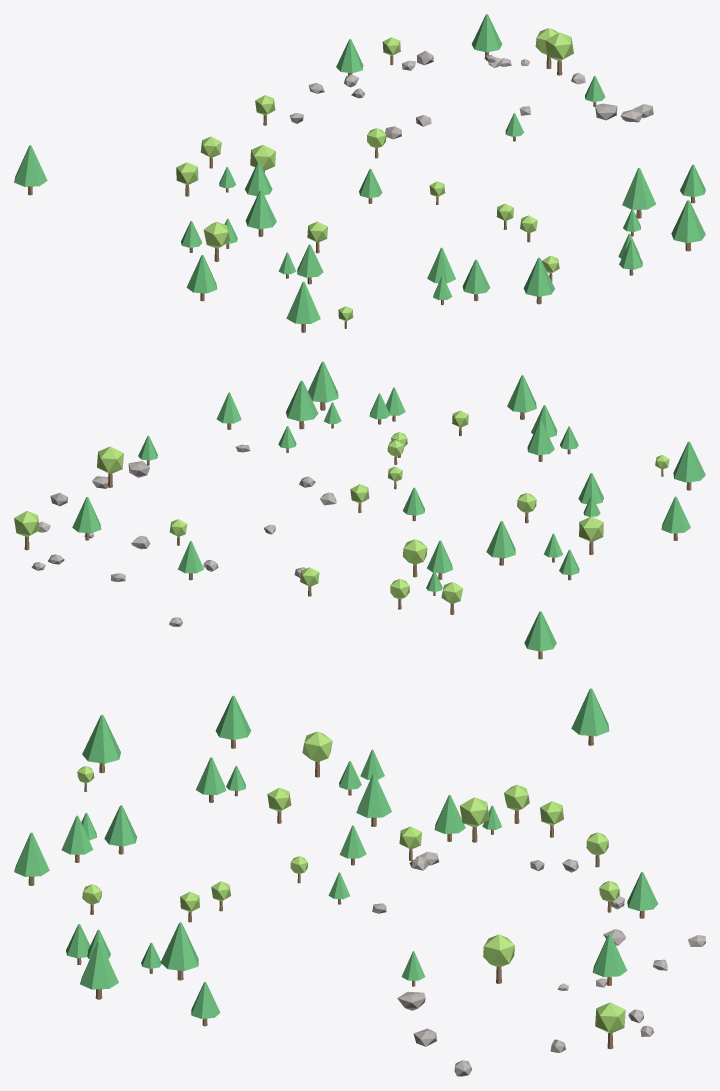
File: PropsQ_en-transformed.glb
3 views of the same model, one above another, from view 1: azimuth 30°, elevation 25°; view 2: azimuth 150°, elevation 25°; view 3: azimuth 270°, elevation 25° (orthographic). The views are drawn at different scales.
Visible parts, largest first — view 1: PropsQ_en; view 2: PropsQ_en; view 3: PropsQ_en.
Part boxes in pixels (x1,y1,x2,y2): PropsQ_en: (14, 14, 705, 332); PropsQ_en: (14, 361, 705, 659); PropsQ_en: (14, 688, 705, 1076).
Size of the model in its own units: 141 by 21.14 by 128.
